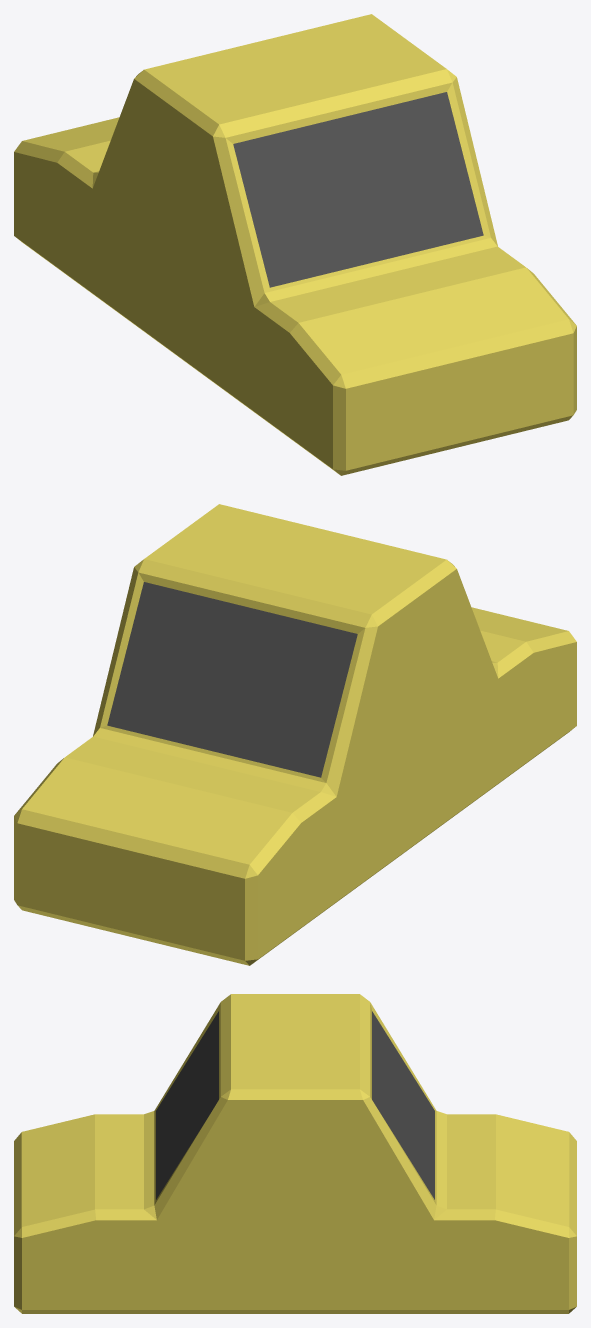
Rendered from car.fbx.
3 views of the same model, one above another, from view 1: azimuth 30°, elevation 25°; view 2: azimuth 150°, elevation 25°; view 3: azimuth 270°, elevation 25° (orthographic). The views are drawn at different scales.
Parts seen in each view (by area): view 1: Cube; view 2: Cube; view 3: Cube.
Boxes of the visible parts, left/top/right/bottom form: Cube: left=14, top=14, right=576, bottom=475; Cube: left=14, top=504, right=576, bottom=965; Cube: left=14, top=994, right=576, bottom=1313.
Bounding box in the file's own units: 2983 × 3062 × 6954.
